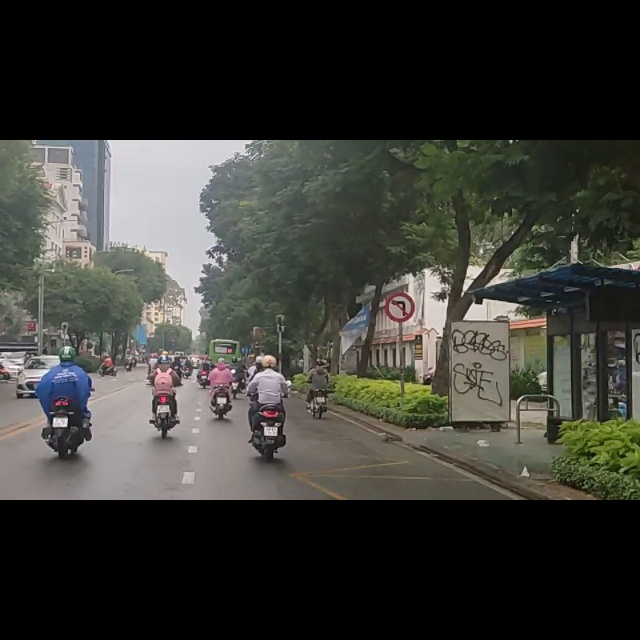bien_cam: (387, 271, 415, 322)
